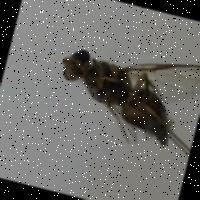Oriental-fruit-fly: (37, 25, 200, 170)
